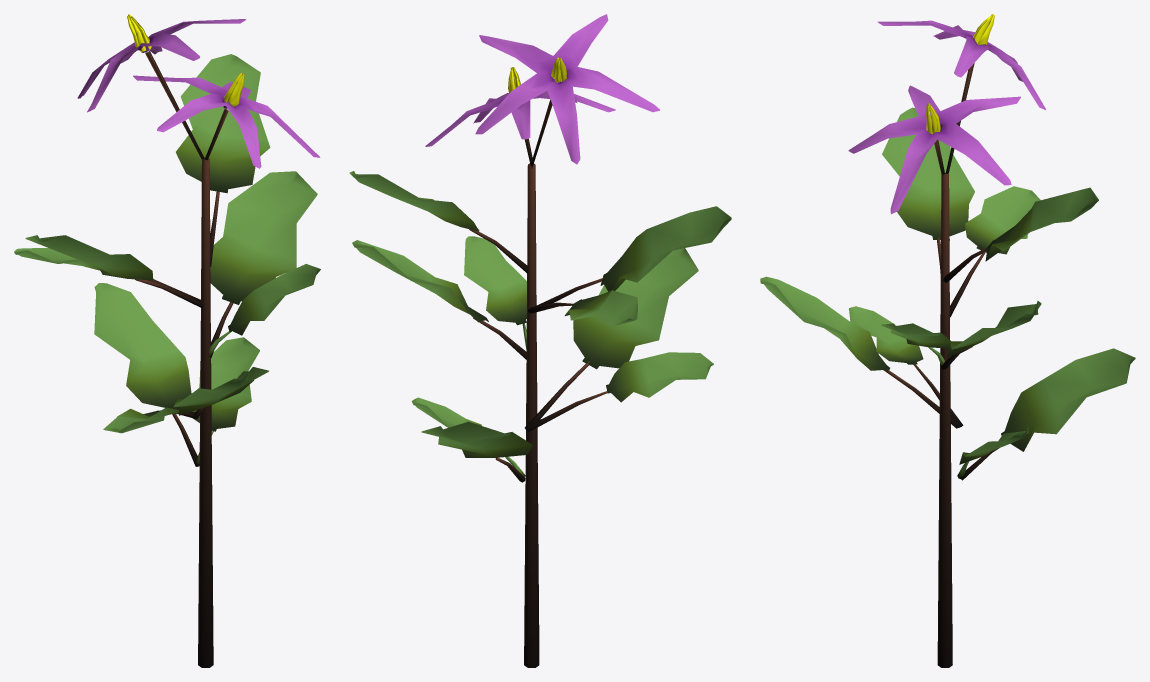
File: Solanum .fbx
3 views of the same model, side by side, from view 1: azimuth 30°, elevation 25°; view 2: azimuth 150°, elevation 25°; view 3: azimuth 270°, elevation 25° (orthographic). The views are drawn at different scales.
Visible parts, largest first — view 1: base stem.026; view 2: base stem.026; view 3: base stem.026.
Part boxes in pixels (x1,y1,x2,y2): base stem.026: [14, 14, 320, 667]; base stem.026: [349, 14, 731, 667]; base stem.026: [760, 14, 1135, 667].
Bounding box in the file's own units: 895 × 1690 × 919.
